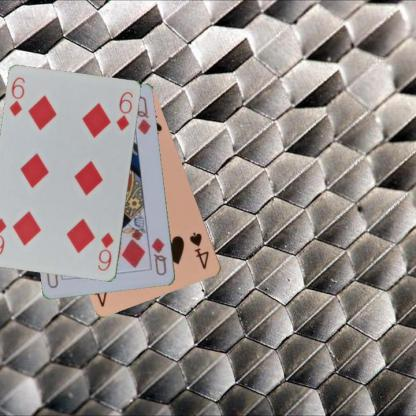4s: (187, 229, 211, 271)
6d: (95, 230, 115, 273), (7, 74, 26, 118)
Qd: (149, 235, 168, 277)
